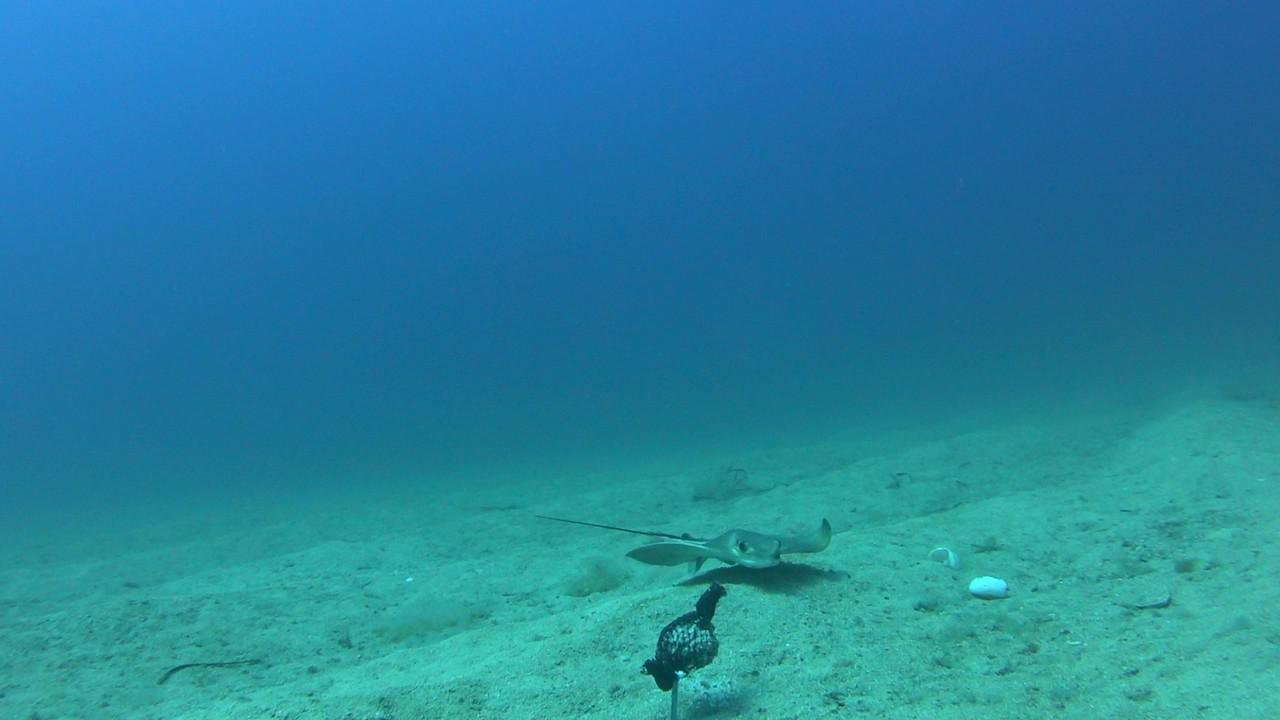myliobatis: (523, 494, 840, 583)
